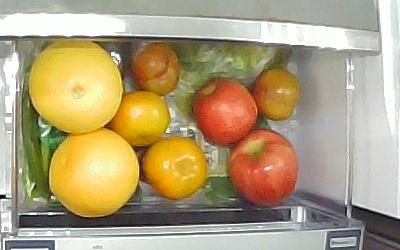apple: (228, 129, 298, 210), (191, 76, 259, 145)
grapefruit: (29, 39, 124, 134), (47, 128, 140, 218)
persimmon: (140, 137, 209, 199), (109, 90, 171, 147)
prune: (131, 42, 181, 96), (253, 68, 302, 121)
